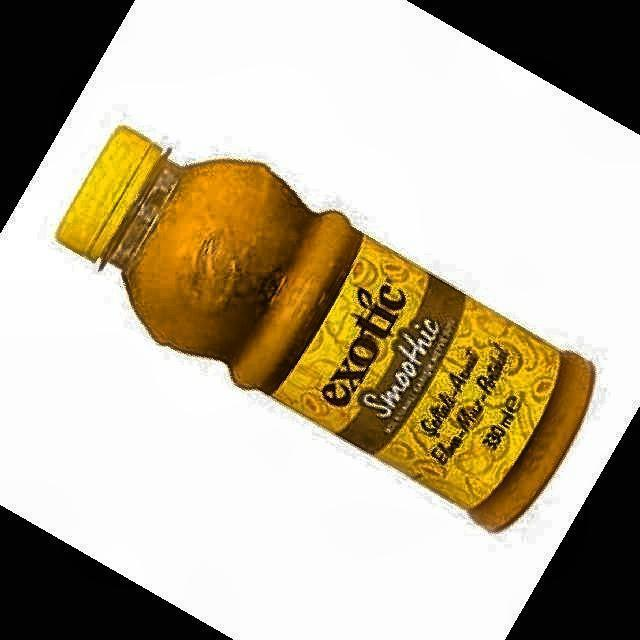plastic: (58, 128, 591, 529)
